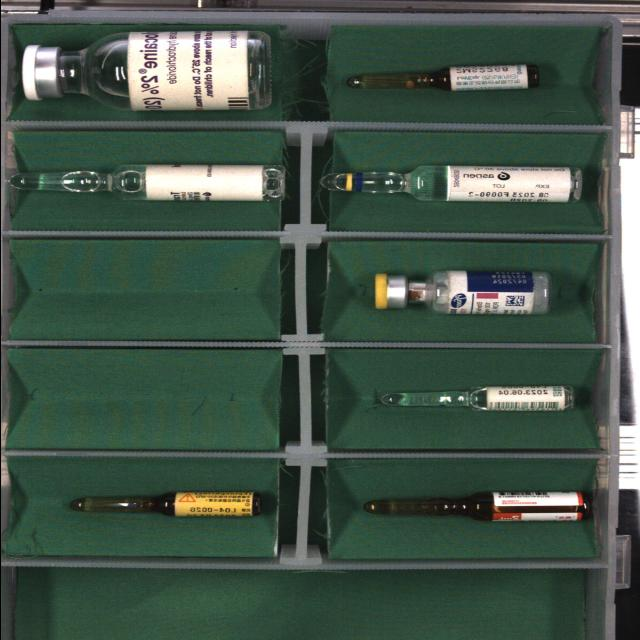Vials: (21, 30, 271, 110), (374, 271, 549, 314)
